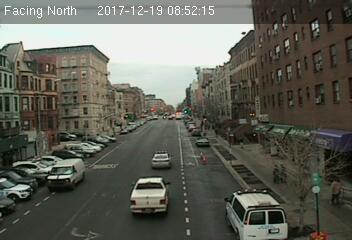car: (126, 177, 170, 216), (196, 137, 208, 145)
pedestrian: (329, 177, 343, 209)
police: (222, 188, 290, 240), (150, 150, 172, 170)
truck: (44, 159, 84, 190)
